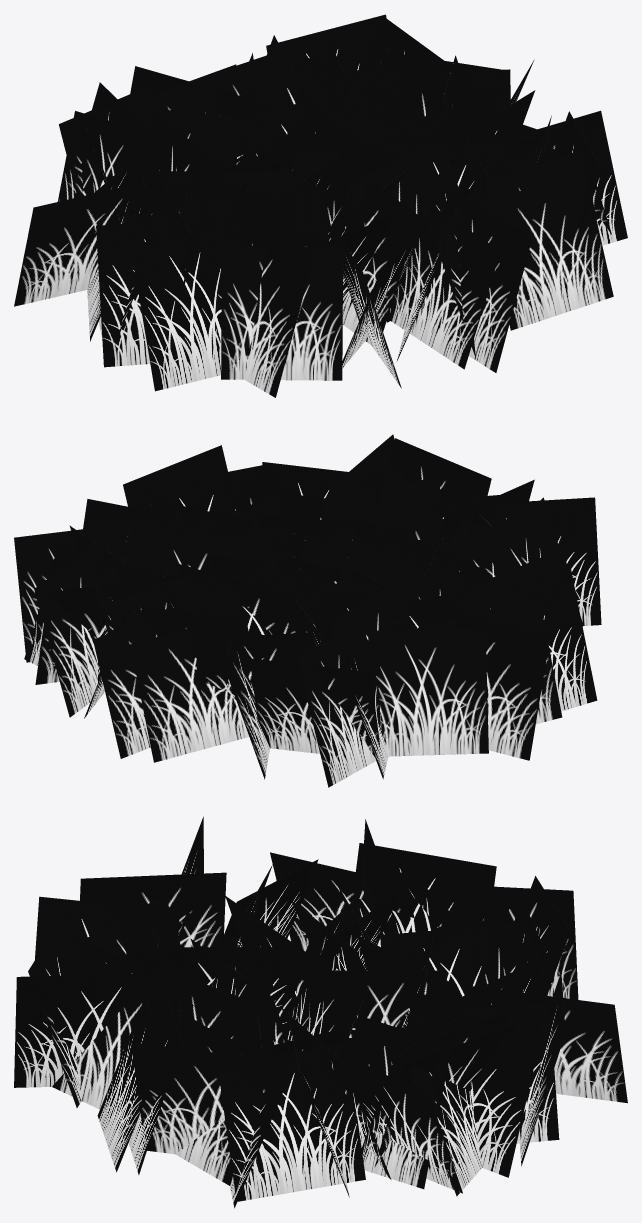
File: Grass02.fbx
3 renders of one model, top to bottom at view 1: azimuth 30°, elevation 25°; view 2: azimuth 150°, elevation 25°; view 3: azimuth 270°, elevation 25°, orthographic. The views are drawn at different scales.
Parts seen in each view (by area): view 1: Grass02_LOD0; view 2: Grass02_LOD0; view 3: Grass02_LOD0.
Part boxes in pixels (bbox=[...]): Grass02_LOD0: bbox=[14, 14, 627, 397]; Grass02_LOD0: bbox=[14, 434, 601, 787]; Grass02_LOD0: bbox=[14, 816, 627, 1208].
Size of what is drawn, in the model's own units: 276 by 63.32 by 264.
